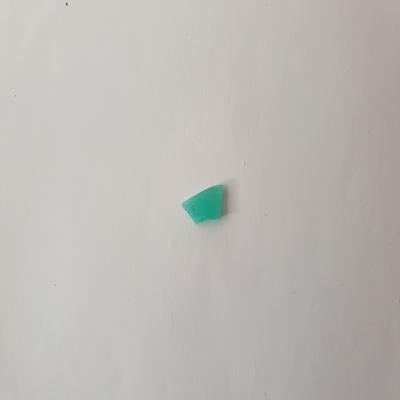plastic: (179, 182, 231, 226)
